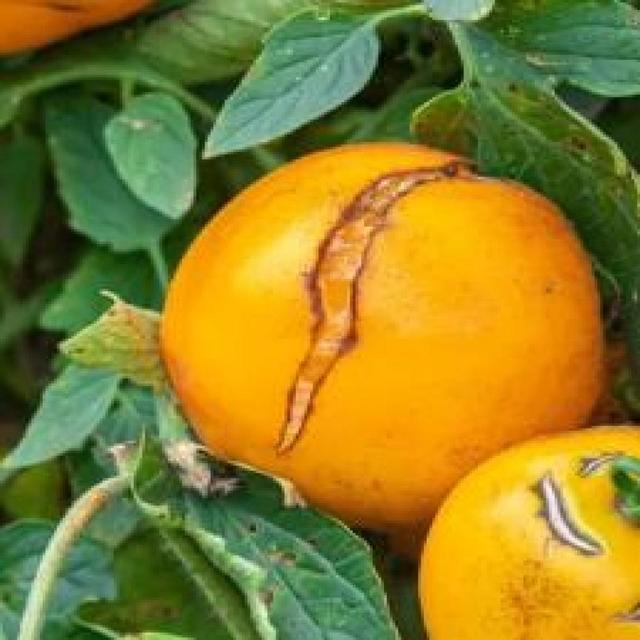Cracking Fruit: (342, 313, 397, 384)
